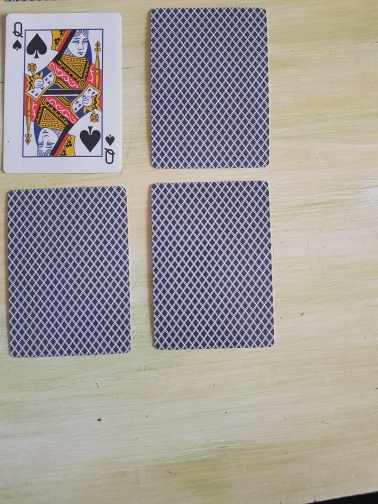queen: (1, 11, 125, 175)
